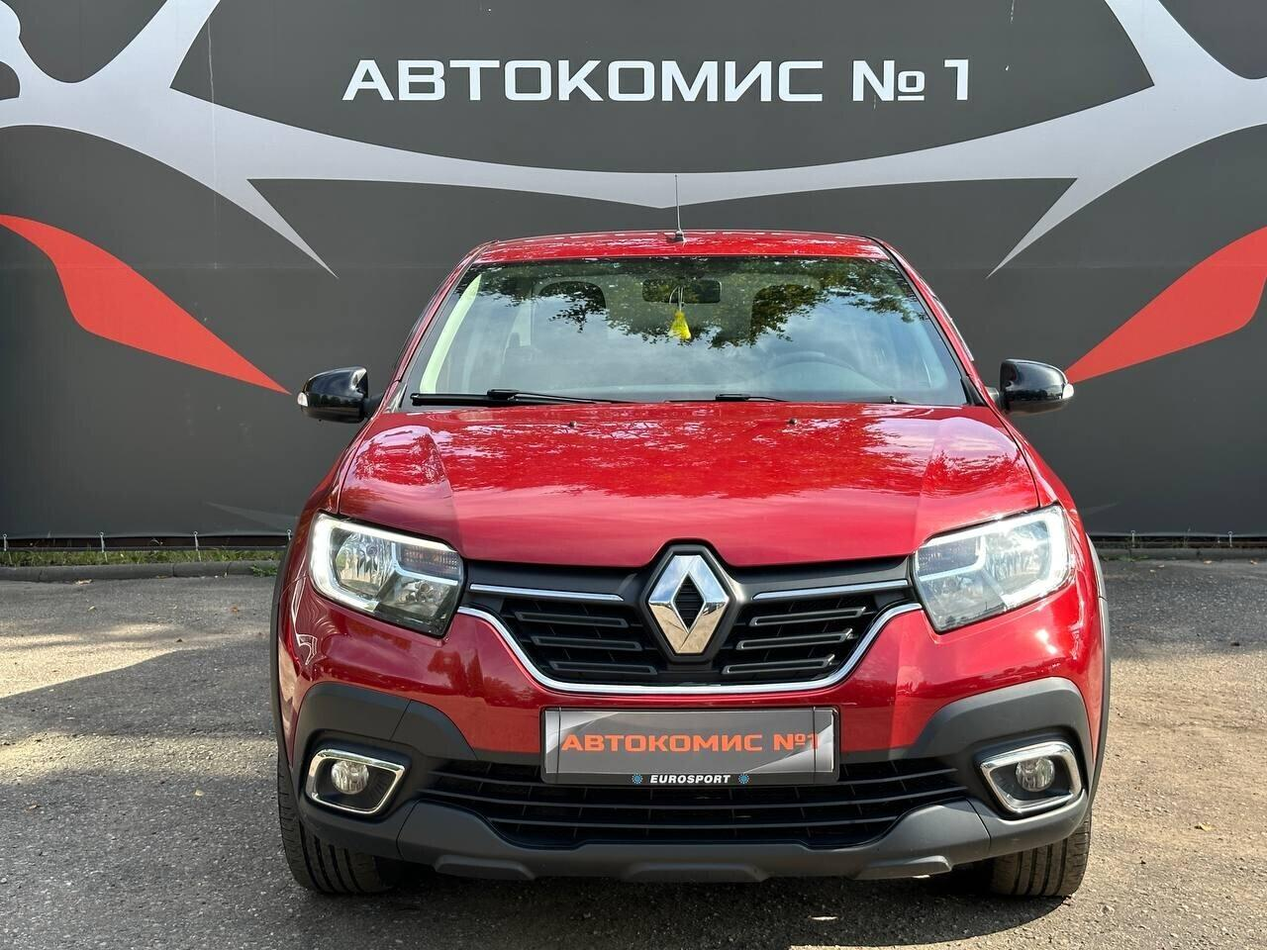Logan_2018: (256, 221, 1133, 898)
